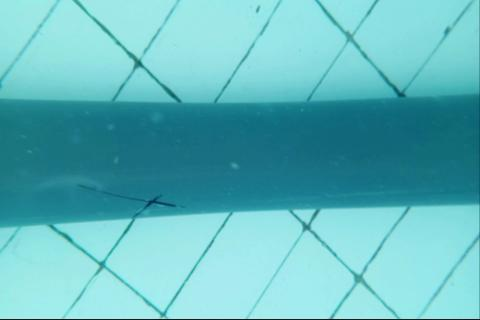keretakan: (74, 182, 182, 216)
